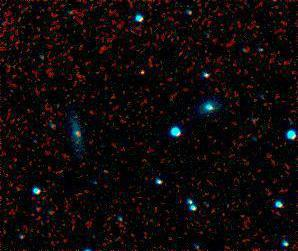star: (126, 59, 156, 89)
